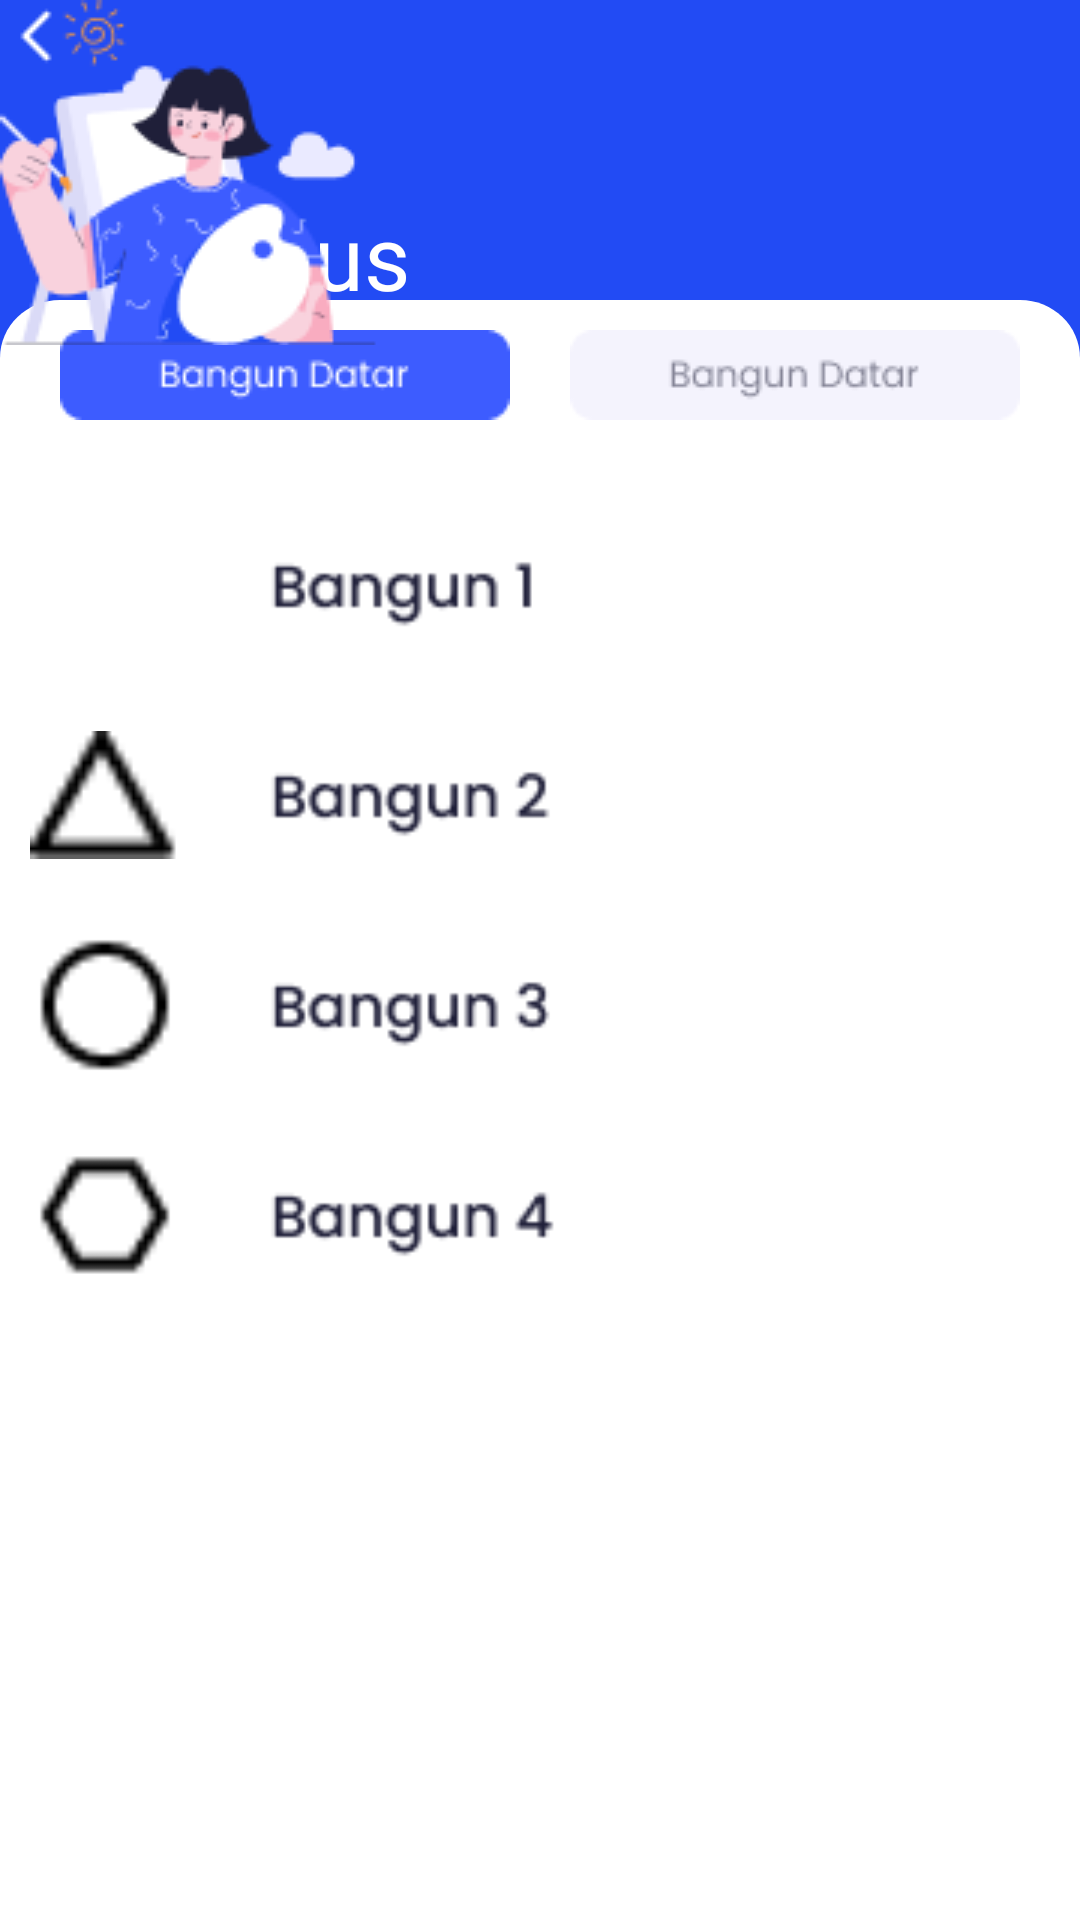

Icons on this 1080×1920 Android screen, each with its box as box=[x1, y1, x2, y2]:
lingkaran: box=[40, 940, 170, 1070]
segi: box=[40, 1156, 170, 1274]
segitiga: box=[30, 731, 176, 859]
